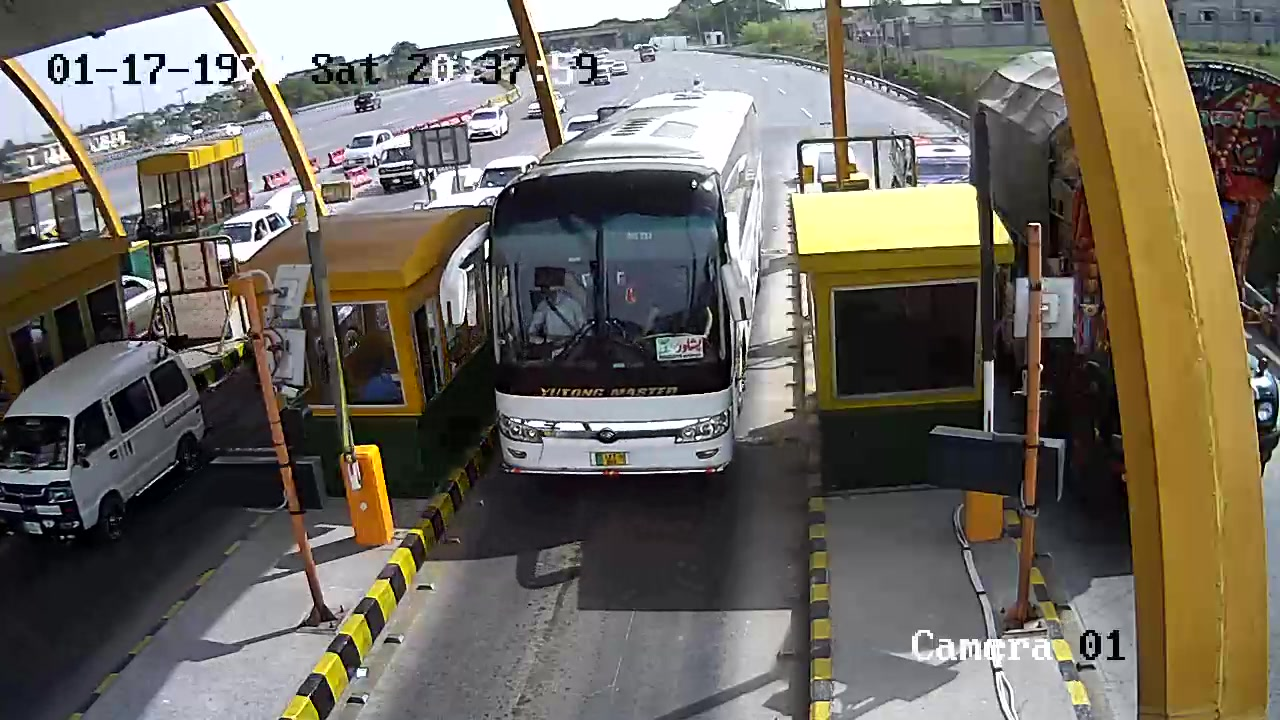F4: (482, 81, 773, 490)
